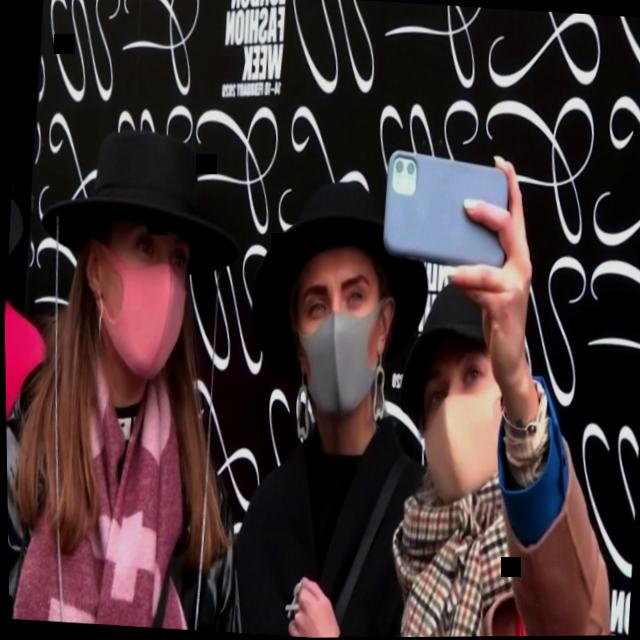Mask: (62, 134, 210, 398), (260, 178, 410, 427), (397, 260, 540, 516)
